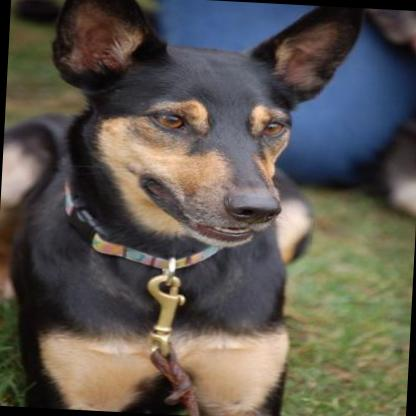kelpie: (0, 0, 363, 416)
